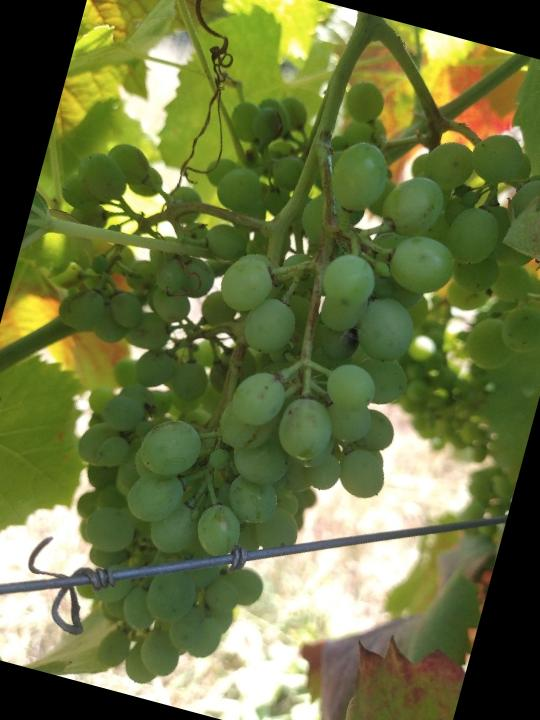grape: (0, 9, 540, 720)
